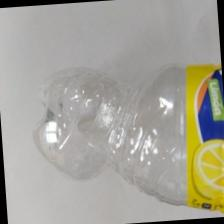plastic: (23, 63, 224, 224)
